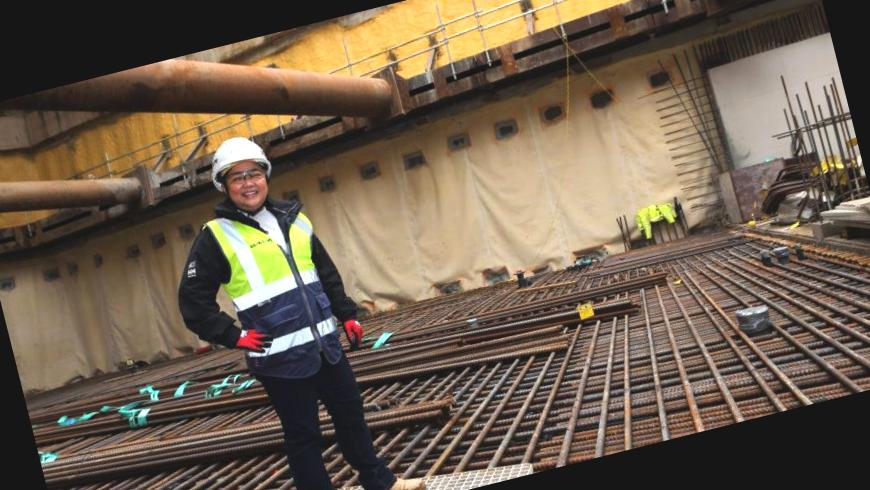helmet: (193, 123, 287, 193)
person: (161, 116, 411, 490)
